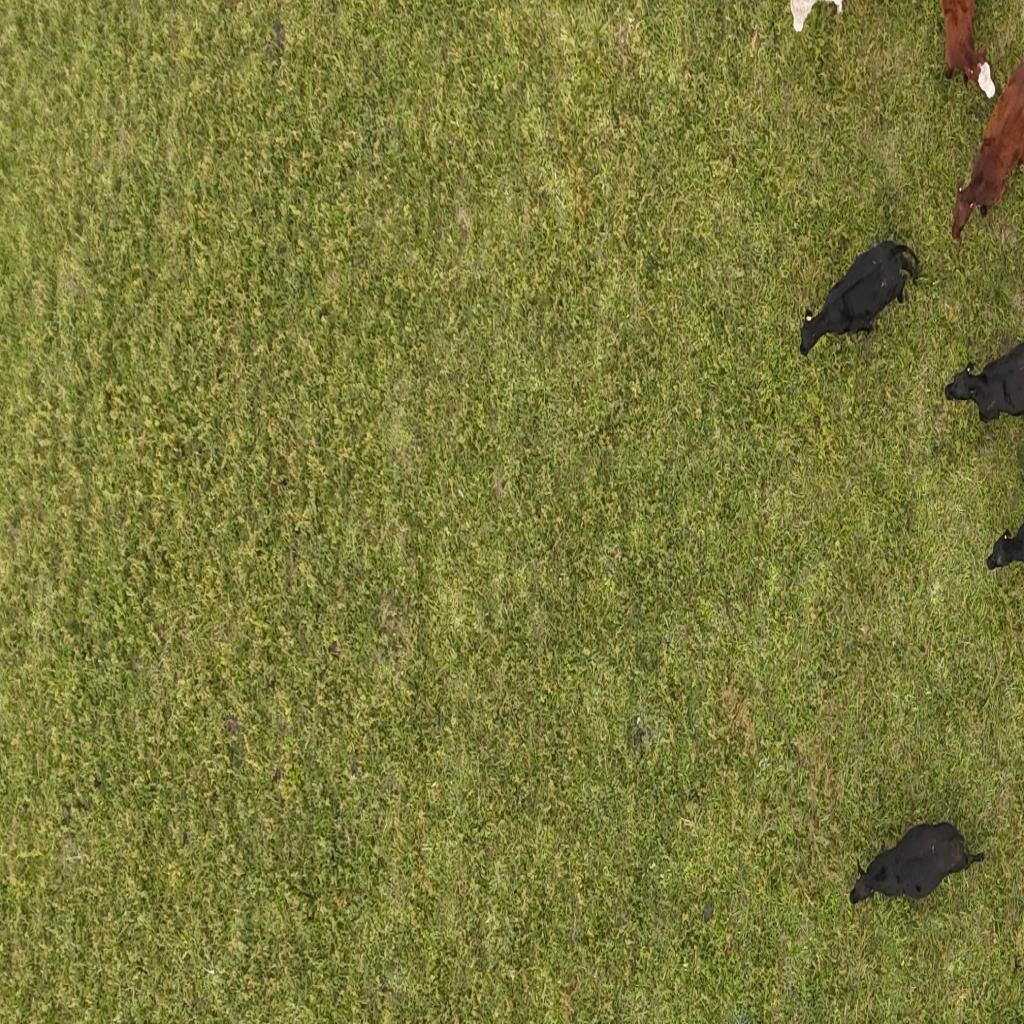cow: (951, 44, 1024, 245), (798, 242, 918, 358), (849, 821, 982, 911)
